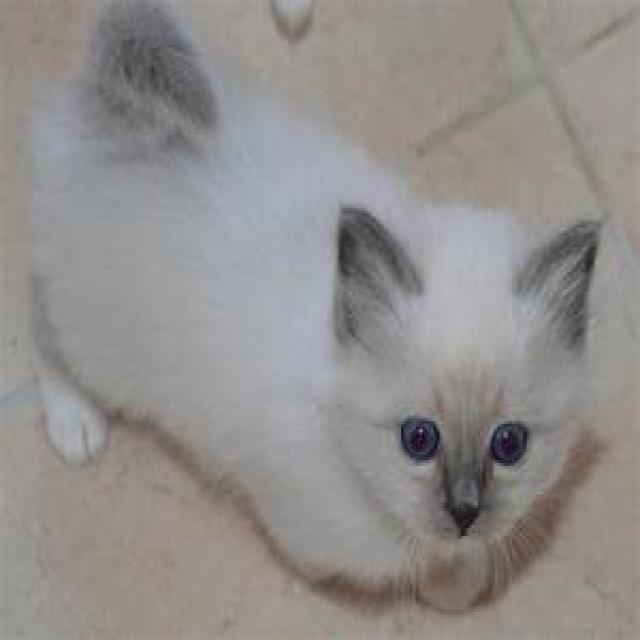animal: (19, 0, 608, 615)
